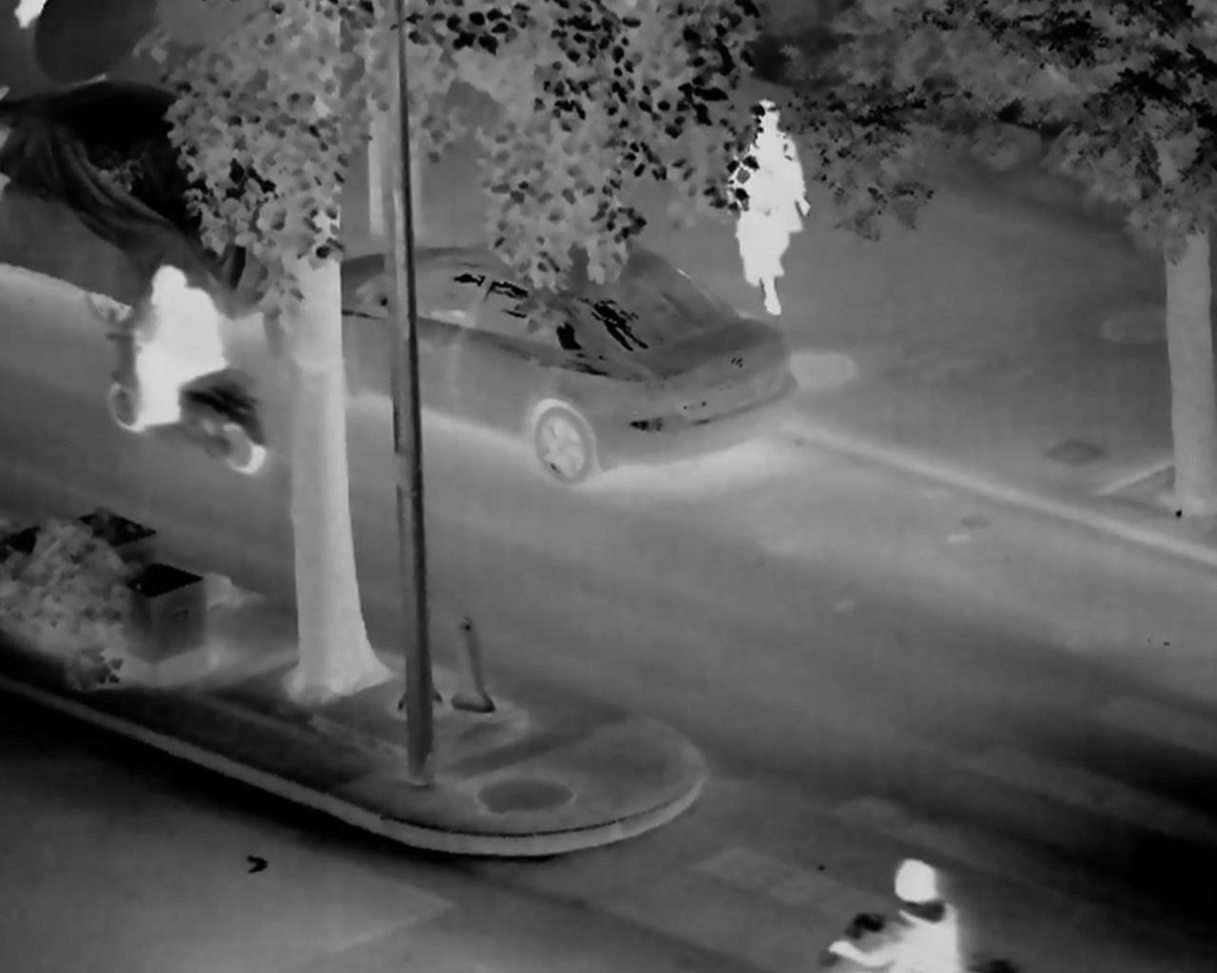person: (717, 100, 819, 335), (123, 259, 241, 458), (812, 849, 970, 973)
